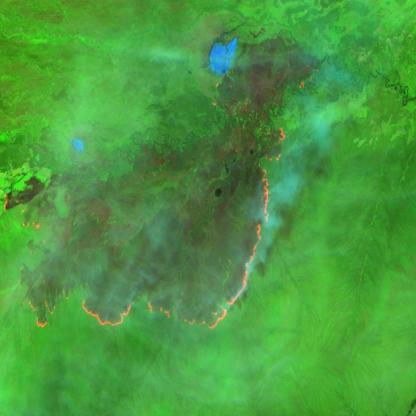fire: (4, 122, 287, 331)
